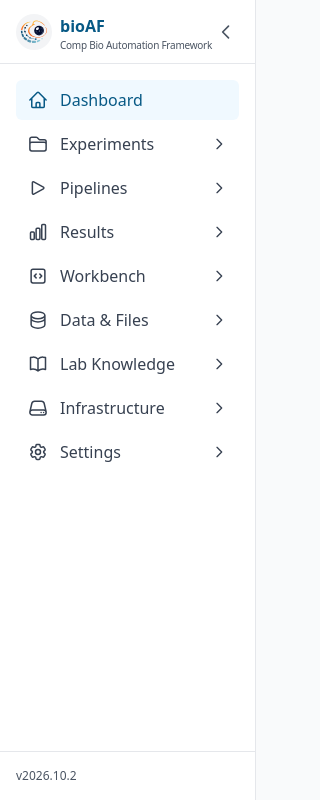
Test: Sidebar › renders Experiments as an expandable section with its children
Click the button "Experiments": (128, 144) [16, 124, 239, 164]
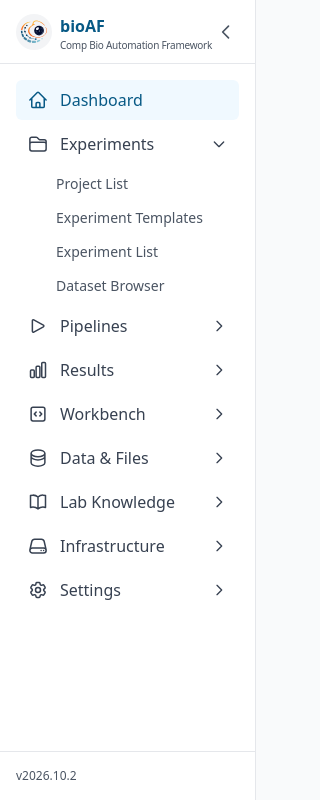
Check: the link "Project List" is shown, box [56, 174, 128, 193]
Check: the link "Experiment Templates" is shown, box [56, 208, 203, 227]
Check: the link "Experiment List" is shown, box [56, 242, 158, 261]
